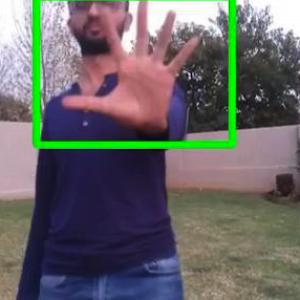follow_hand: (58, 0, 206, 133)
